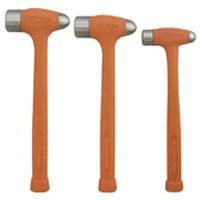hammer: (2, 5, 70, 193), (71, 12, 137, 193), (138, 25, 197, 193)
